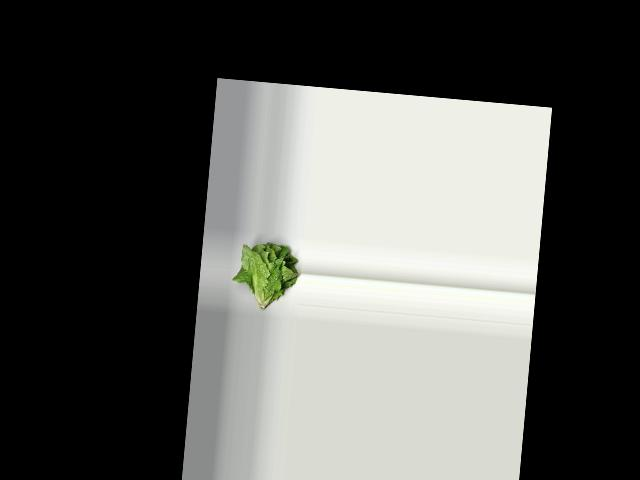lettuce: (231, 236, 305, 317)
